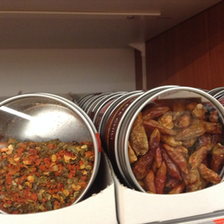spices: (115, 87, 223, 197), (1, 94, 98, 215)
